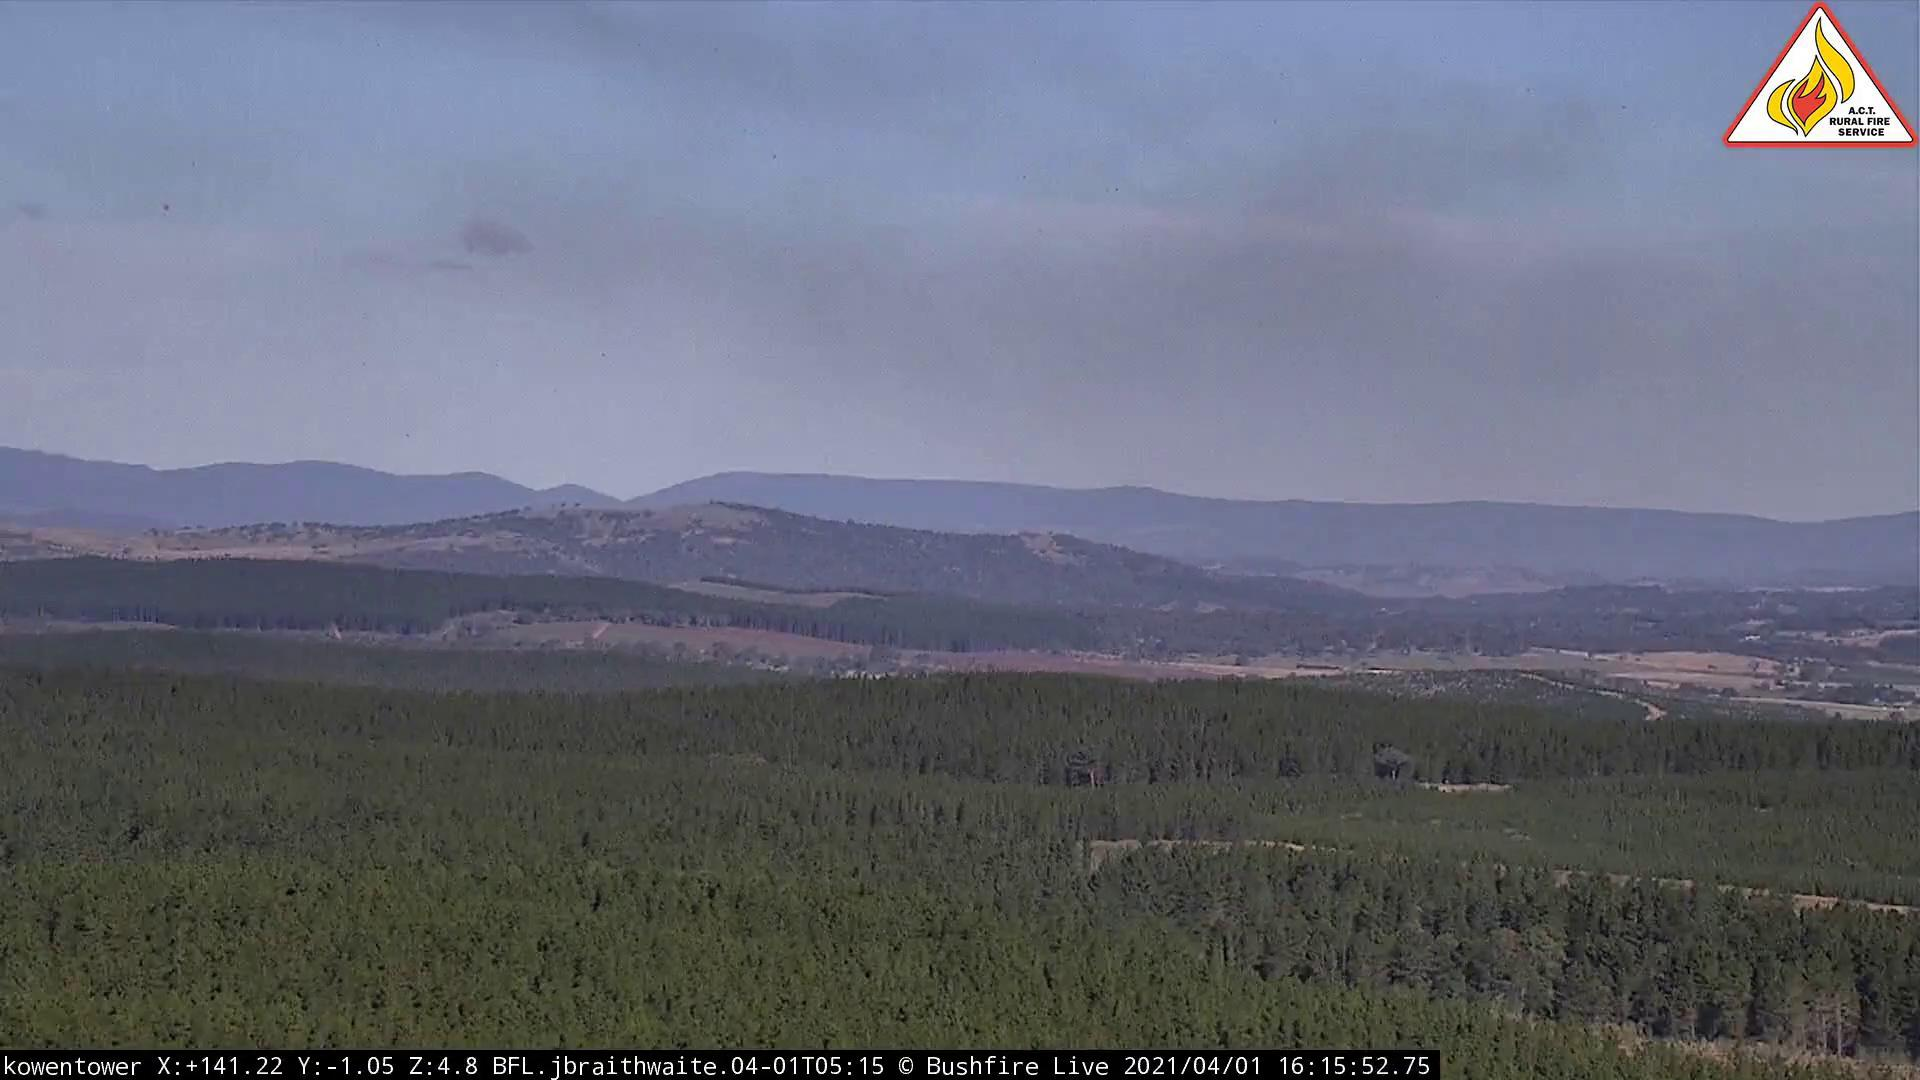Smoke: (363, 3, 1677, 463)
